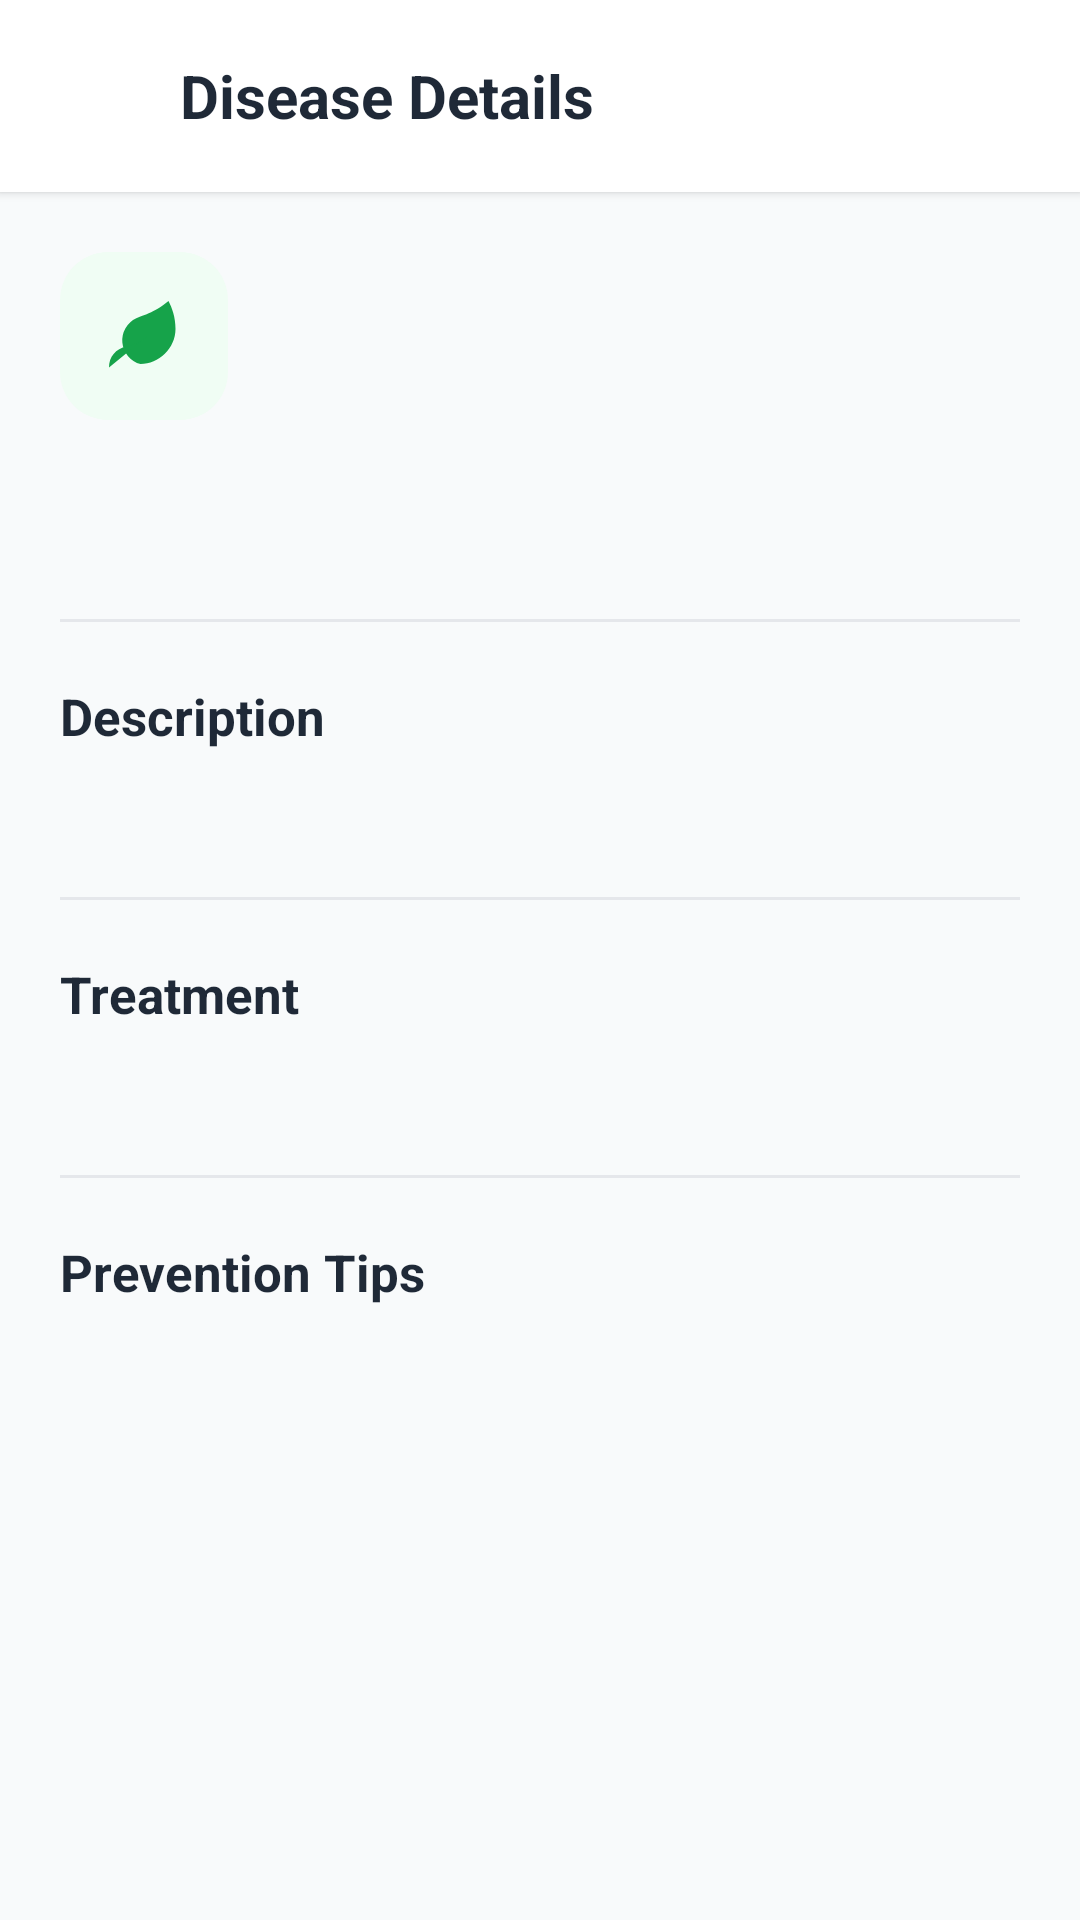

Where icons sit on this 1080px×1920px app screen, as {"x1": x1, "y1": y1, "x2": x2, "y2": y2}:
leaf: {"x1": 109, "y1": 301, "x2": 176, "y2": 368}
